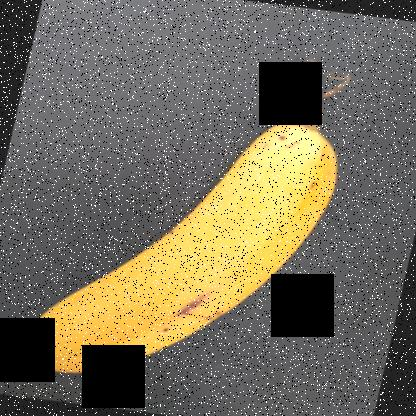freshripe: (15, 131, 350, 394)
